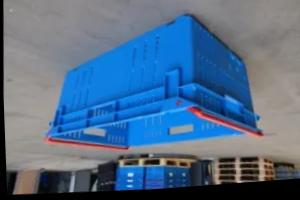cardboard: (91, 161, 115, 190)
plastic: (48, 15, 261, 147)
